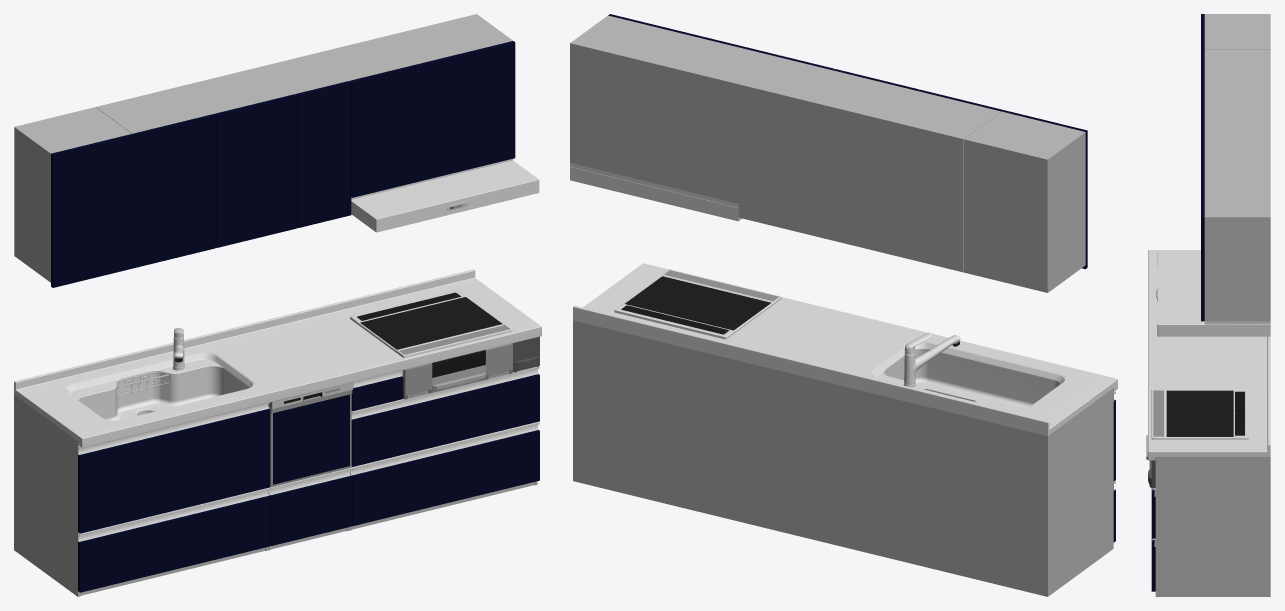
Rendered from kitchen_09.fbx.
3 views of the same model, side by side, from view 1: azimuth 30°, elevation 25°; view 2: azimuth 150°, elevation 25°; view 3: azimuth 270°, elevation 25° (orthographic). The views are drawn at different scales.
Parts seen in each view (by area): view 1: Plane.037, Plane.031, Plane.041, Plane.035, Plane.034, Plane.036, Plane.046, Plane.038, Plane.045, Plane.054, Plane.017, Plane.033 (+20 smaller); view 2: Plane.047, Plane.049, Plane.016, Plane.018, Plane.037, Plane.017, Plane.048, Plane.046, Plane.015, Plane.061, Plane.009, Plane.023 (+6 smaller); view 3: Plane.014, Plane.018, Plane.037, Plane.016, Plane.009, Plane.019, Plane.017, Plane.015, Plane.023, Plane.031, Plane.010, Cylinder (+7 smaller).
Boxes of the visible parts, bbox=[...] form: Plane.037: bbox=[14, 269, 541, 448]; Plane.031: bbox=[350, 41, 515, 197]; Plane.041: bbox=[78, 409, 269, 533]; Plane.035: bbox=[51, 134, 134, 287]; Plane.034: bbox=[214, 94, 297, 247]; Plane.036: bbox=[133, 114, 215, 267]; Plane.046: bbox=[14, 395, 268, 596]; Plane.038: bbox=[78, 496, 269, 592]; Plane.045: bbox=[350, 430, 539, 526]; Plane.054: bbox=[351, 374, 539, 466]; Plane.017: bbox=[14, 107, 131, 282]; Plane.033: bbox=[296, 81, 351, 227]; Plane.047: bbox=[854, 389, 1044, 596]; Plane.049: bbox=[575, 321, 764, 527]; Plane.016: bbox=[795, 70, 1001, 272]; Plane.018: bbox=[570, 15, 775, 203]; Plane.037: bbox=[573, 263, 1117, 435]; Plane.017: bbox=[964, 111, 1085, 292]; Plane.048: bbox=[770, 368, 848, 547]; Plane.046: bbox=[851, 388, 1113, 596]; Plane.015: bbox=[738, 56, 831, 231]; Plane.061: bbox=[870, 341, 1066, 411]; Plane.009: bbox=[625, 276, 771, 330]; Plane.023: bbox=[570, 167, 741, 221]; Plane.014: bbox=[1155, 457, 1270, 596]; Plane.018: bbox=[1204, 145, 1270, 321]; Plane.037: bbox=[1148, 250, 1270, 460]; Plane.016: bbox=[1204, 50, 1270, 121]; Plane.009: bbox=[1166, 390, 1233, 436]; Plane.019: bbox=[1159, 254, 1204, 323]; Plane.017: bbox=[1204, 14, 1270, 49]; Plane.015: bbox=[1204, 121, 1270, 145]; Plane.023: bbox=[1160, 253, 1270, 336]; Plane.031: bbox=[1201, 145, 1204, 321]; Plane.010: bbox=[1153, 390, 1163, 436]; Cylinder: bbox=[1235, 391, 1244, 435].
Size of the model in its own units: 255 by 223 by 65.87.
